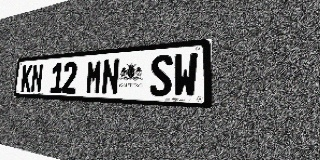1: (50, 62, 64, 93)
2: (62, 61, 77, 94)
K: (21, 65, 33, 92)
M: (85, 59, 103, 95)
N: (101, 58, 120, 95), (30, 64, 43, 93)
S: (150, 54, 173, 97)
W: (172, 52, 198, 98)
